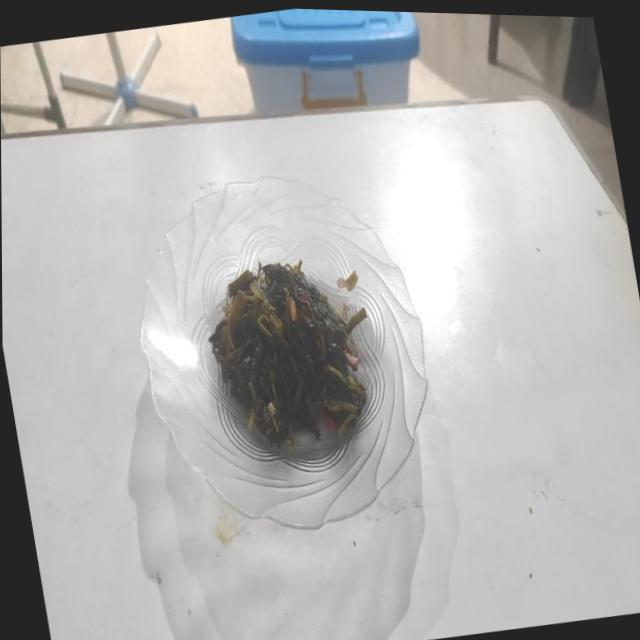tumis_kangkung: (209, 262, 366, 448)
